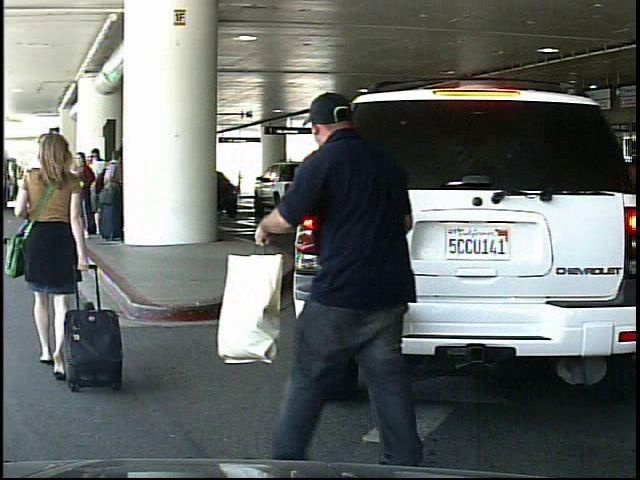person: (278, 85, 439, 466), (5, 124, 102, 401)
